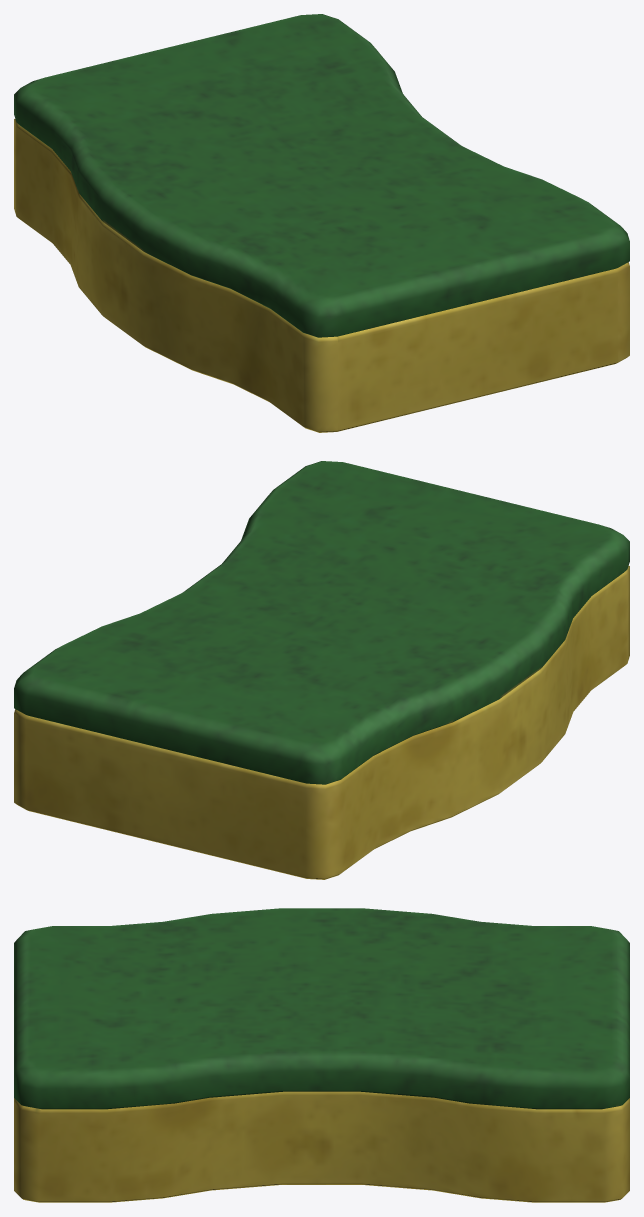
File: SM_Sponge_01.fbx
3 renders of one model, top to bottom at view 1: azimuth 30°, elevation 25°; view 2: azimuth 150°, elevation 25°; view 3: azimuth 270°, elevation 25°, orthographic.
Parts seen in each view (by area): view 1: SM_Sponge_01_LOD0; view 2: SM_Sponge_01_LOD0; view 3: SM_Sponge_01_LOD0.
Part boxes in pixels (x1,y1,x2,y2): SM_Sponge_01_LOD0: [14, 14, 629, 432]; SM_Sponge_01_LOD0: [14, 461, 629, 879]; SM_Sponge_01_LOD0: [14, 908, 629, 1202].
Bounding box in the file's own units: 7.69 × 11.5 × 2.63.
Materials: 1 (1 with a texture image).
